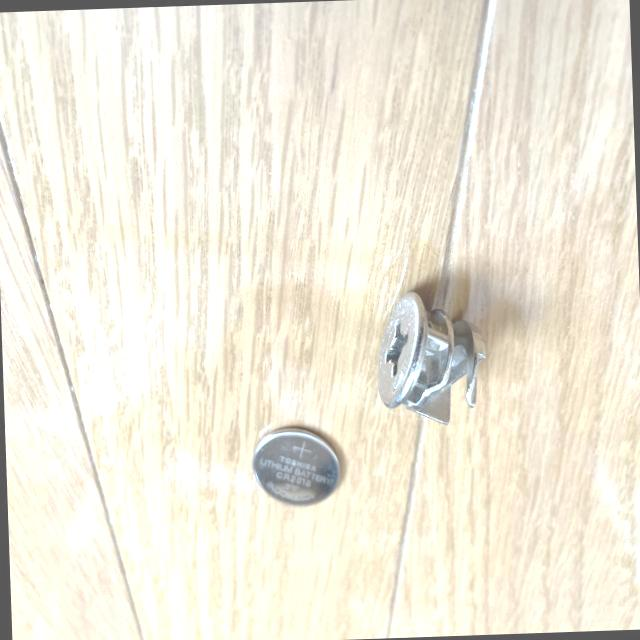COIN: (248, 423, 341, 507)
